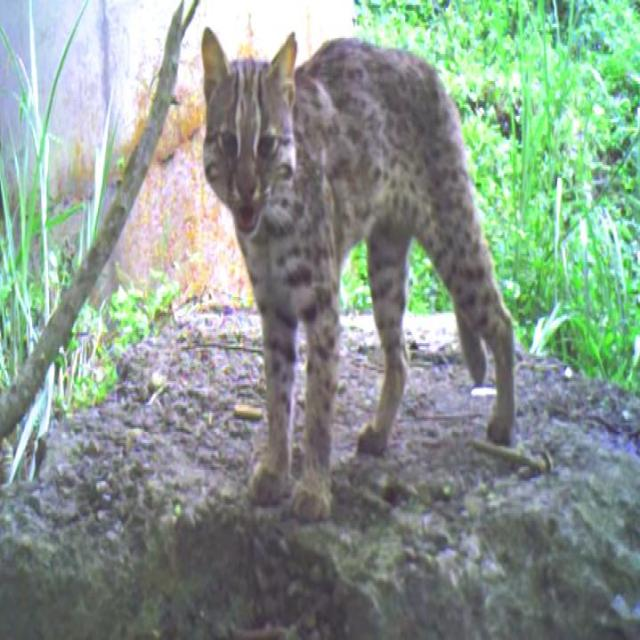leopard: (218, 42, 532, 523)
